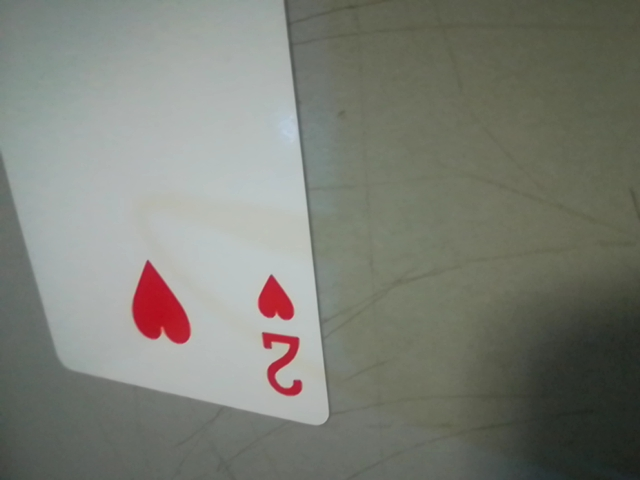hx 2: (247, 261, 317, 412)
